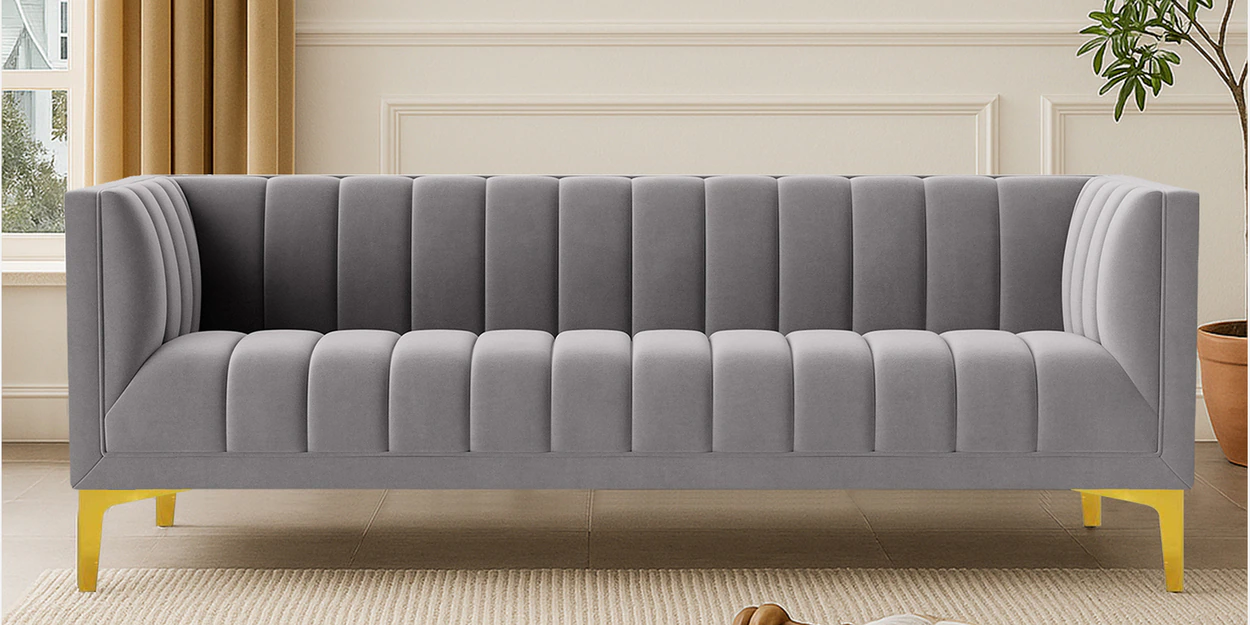3seatersofa: (66, 175, 1198, 591)
backrest: (97, 176, 1087, 400)
base: (71, 442, 1193, 488)
leftarmrest: (1064, 176, 1197, 485)
leg: (77, 489, 184, 591), (1076, 489, 1183, 591)
rightarmrest: (66, 177, 200, 483)
seat: (106, 330, 1156, 451)
